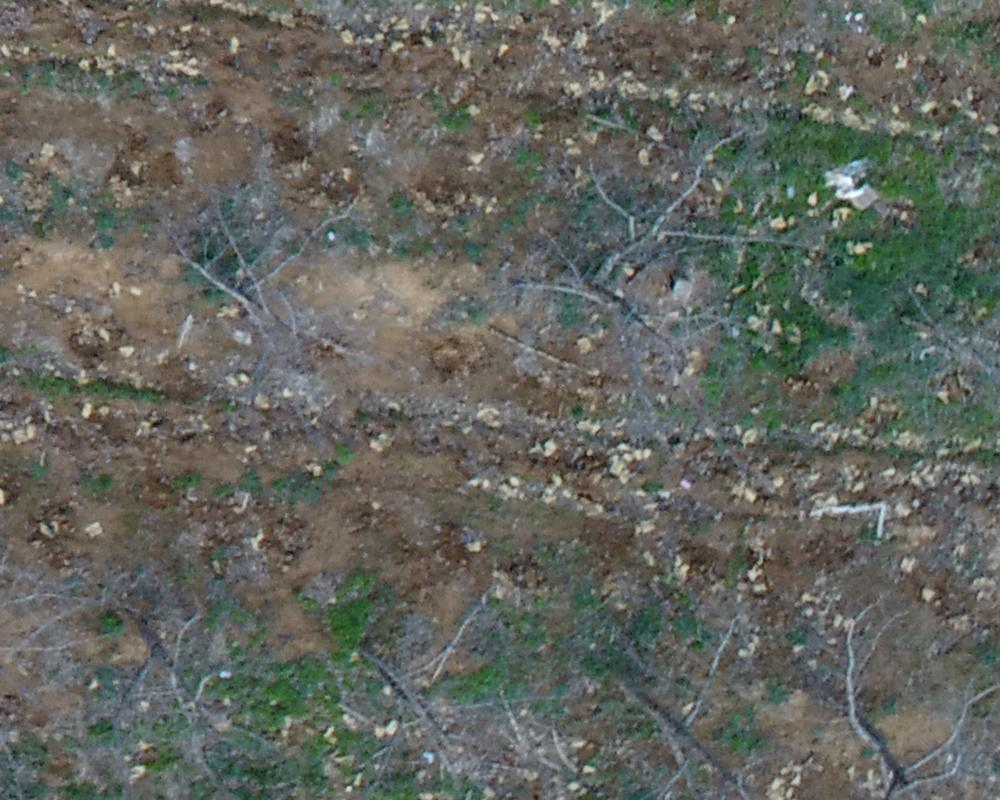apple: (533, 143, 786, 412), (316, 571, 567, 790), (140, 193, 373, 426), (81, 579, 285, 790), (800, 593, 985, 790), (588, 624, 786, 790), (869, 261, 990, 411)
